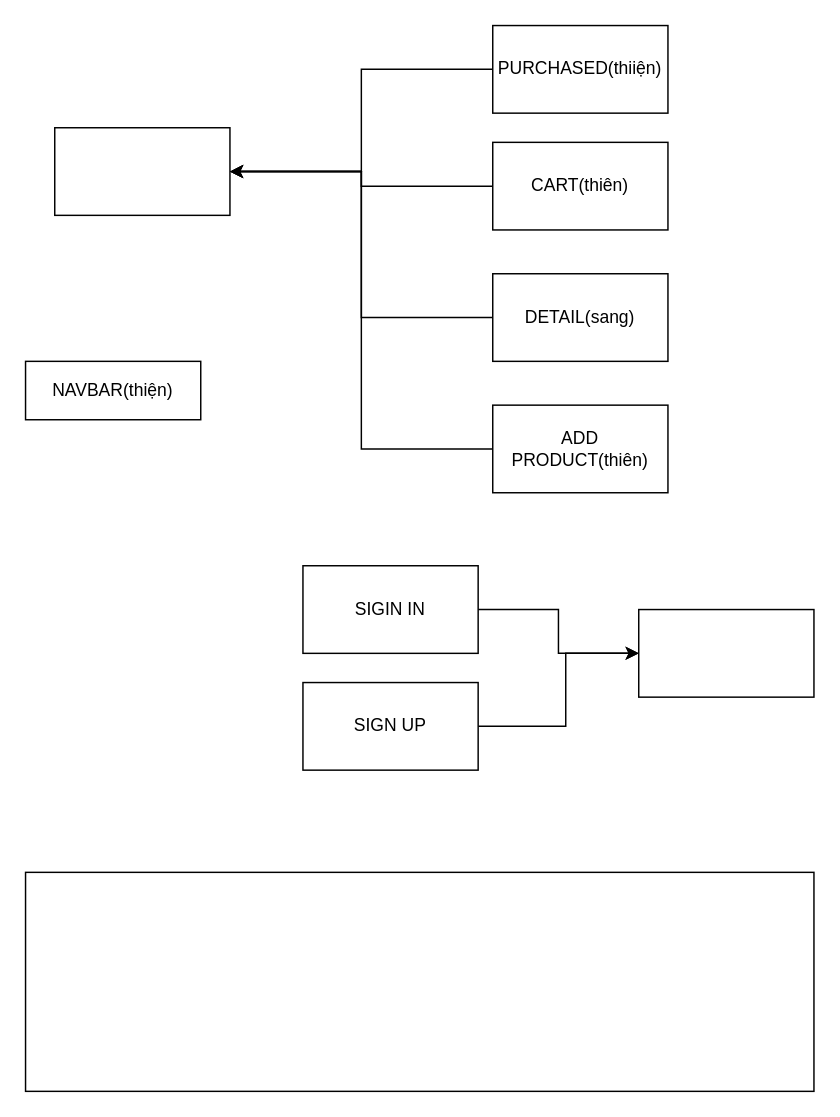
Some shapes in this 840 by 1117 pixel diagram are drawn without their labels. The shapes that lost their labels are listed below. From the top down, each one's box as (x1, y1, x2, y2) in pixels, then its label:
(53, 126, 230, 215): HOME(duy)
(637, 608, 814, 697): Sang: API Duy: UI
(24, 871, 814, 1091): API: GetLisProduct GetProdcutById AddProduct SignIn SginUp GetPruchasedProduct
